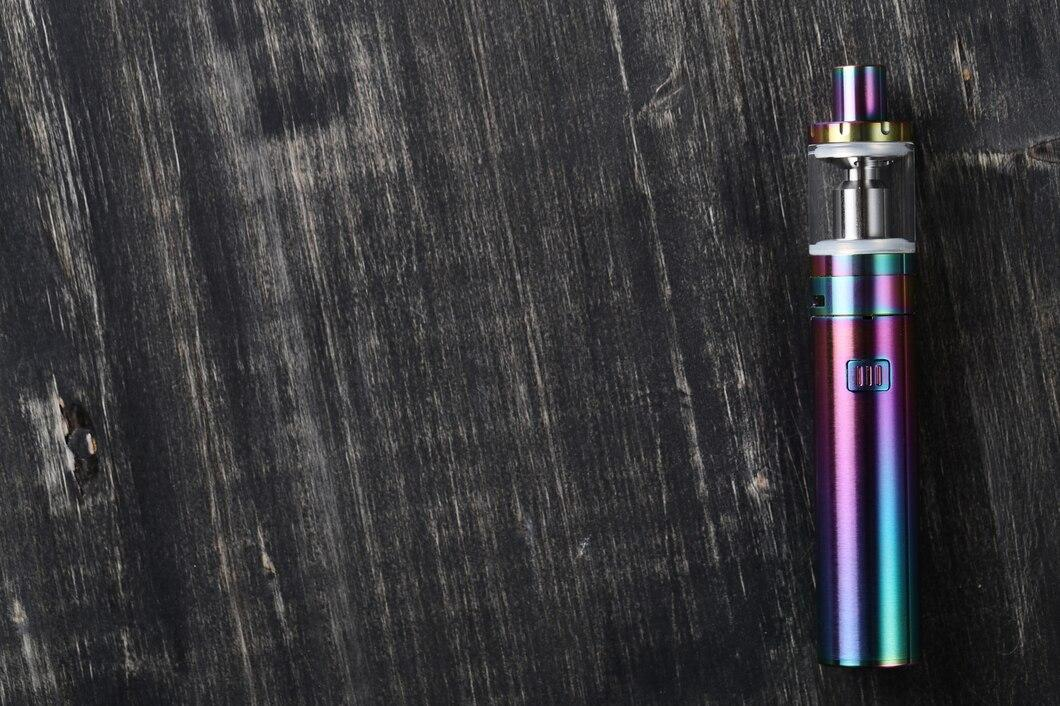Vape: (807, 65, 920, 666)
